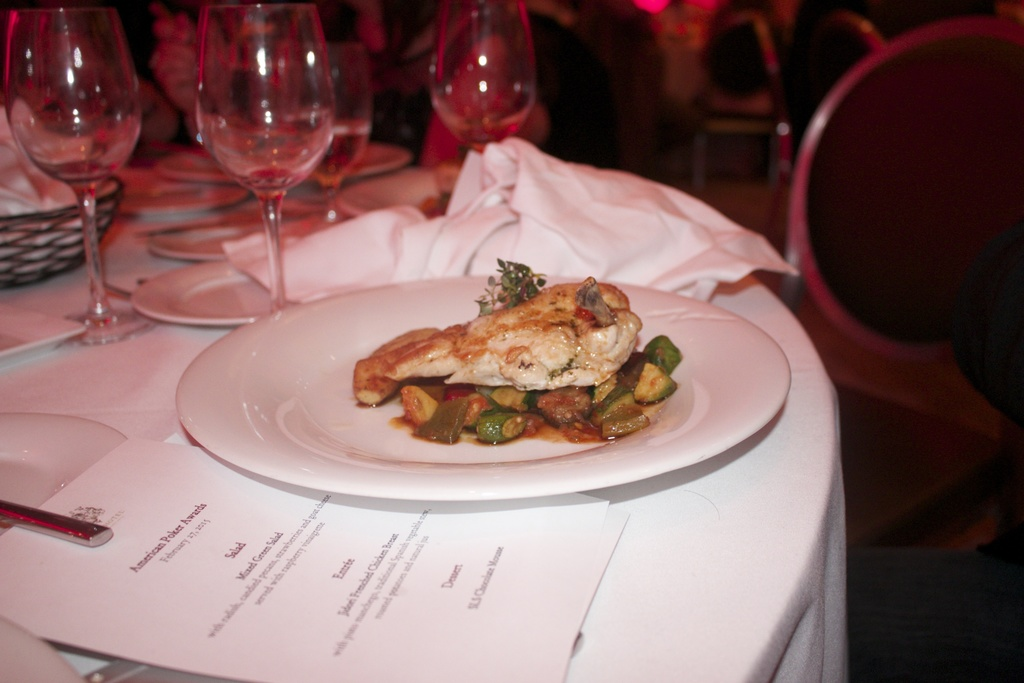plate: (176, 271, 791, 501)
